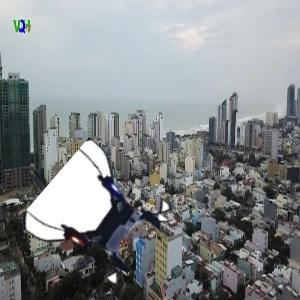drone: (41, 156, 166, 281)
